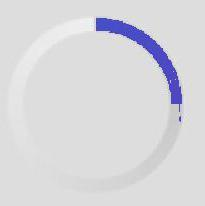ProgressBar: (1, 1, 204, 205)
